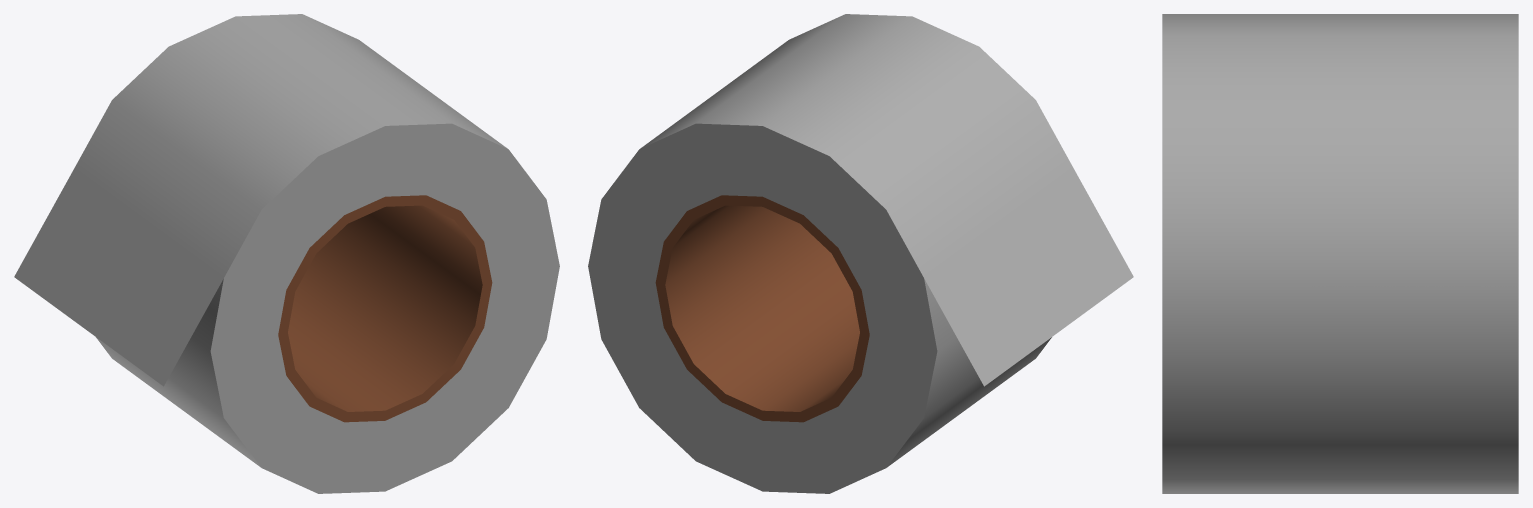
File: SilverTape.fbx
3 views of the same model, side by side, from view 1: azimuth 30°, elevation 25°; view 2: azimuth 150°, elevation 25°; view 3: azimuth 270°, elevation 25° (orthographic). The views are drawn at different scales.
Visible parts, largest first — view 1: Cylinder.001; view 2: Cylinder.001; view 3: Cylinder.001.
Boxes of the visible parts, x1,y1,x2,y2 form: Cylinder.001: (14,14,559,493); Cylinder.001: (588,14,1133,493); Cylinder.001: (1162,14,1518,493).
Bounding box in the file's own units: 31.27 × 27.57 × 20.47.
